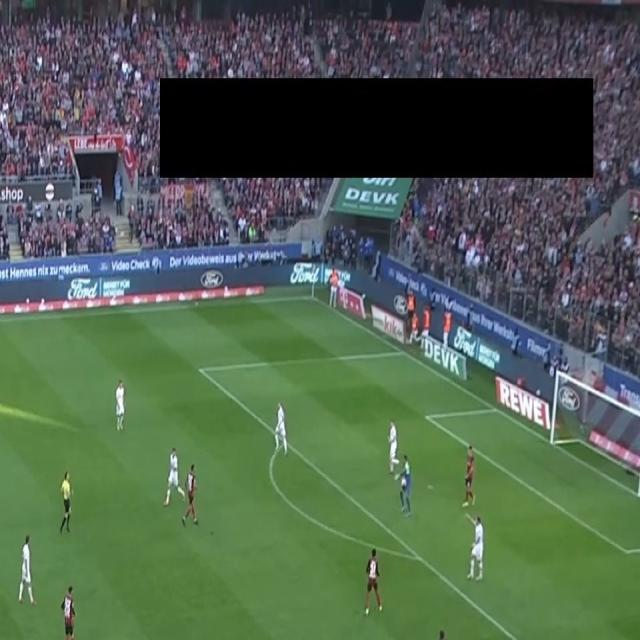ball: (401, 477, 407, 486)
